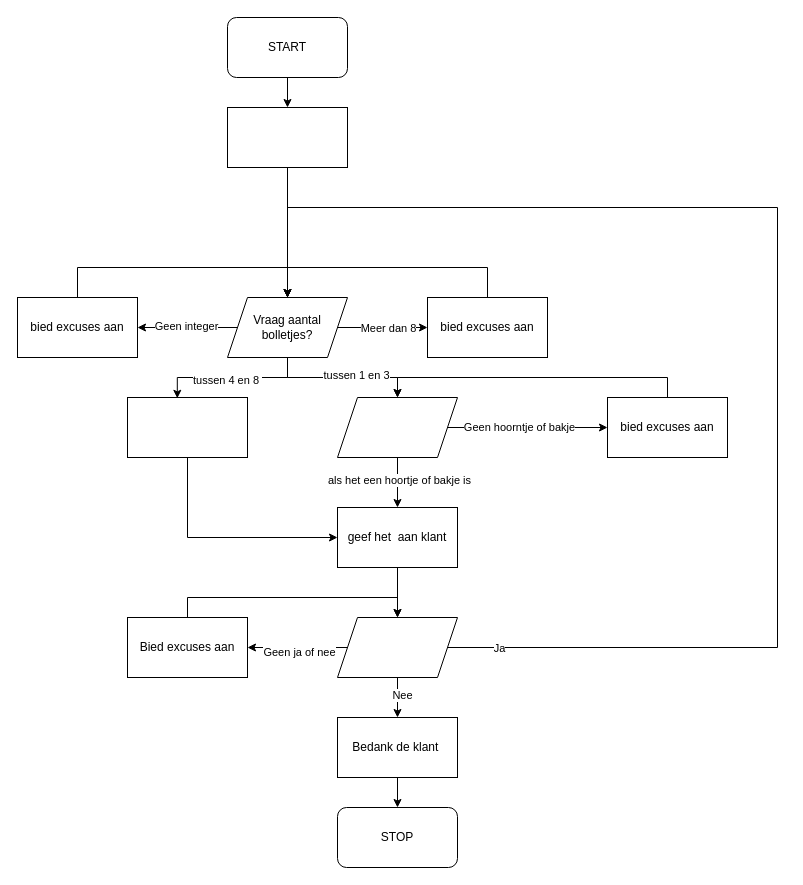
Some shapes in this 803 by 885 pixel diagram are drawn without their labels. Each missing label, with the box of its shape:
geef de klant een bakje: (126, 396, 248, 458)
Vraag of klant meer wilt bestellen?: (336, 616, 458, 678)
Vraag voor hoorntje of bakje?: (336, 396, 458, 458)
welkom de klant: (226, 106, 348, 168)
